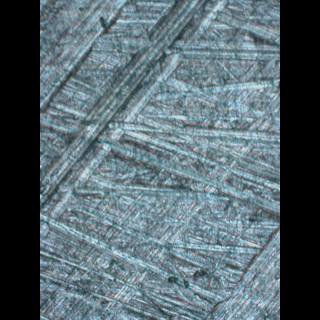d: (39, 0, 237, 236), (206, 220, 279, 319)
